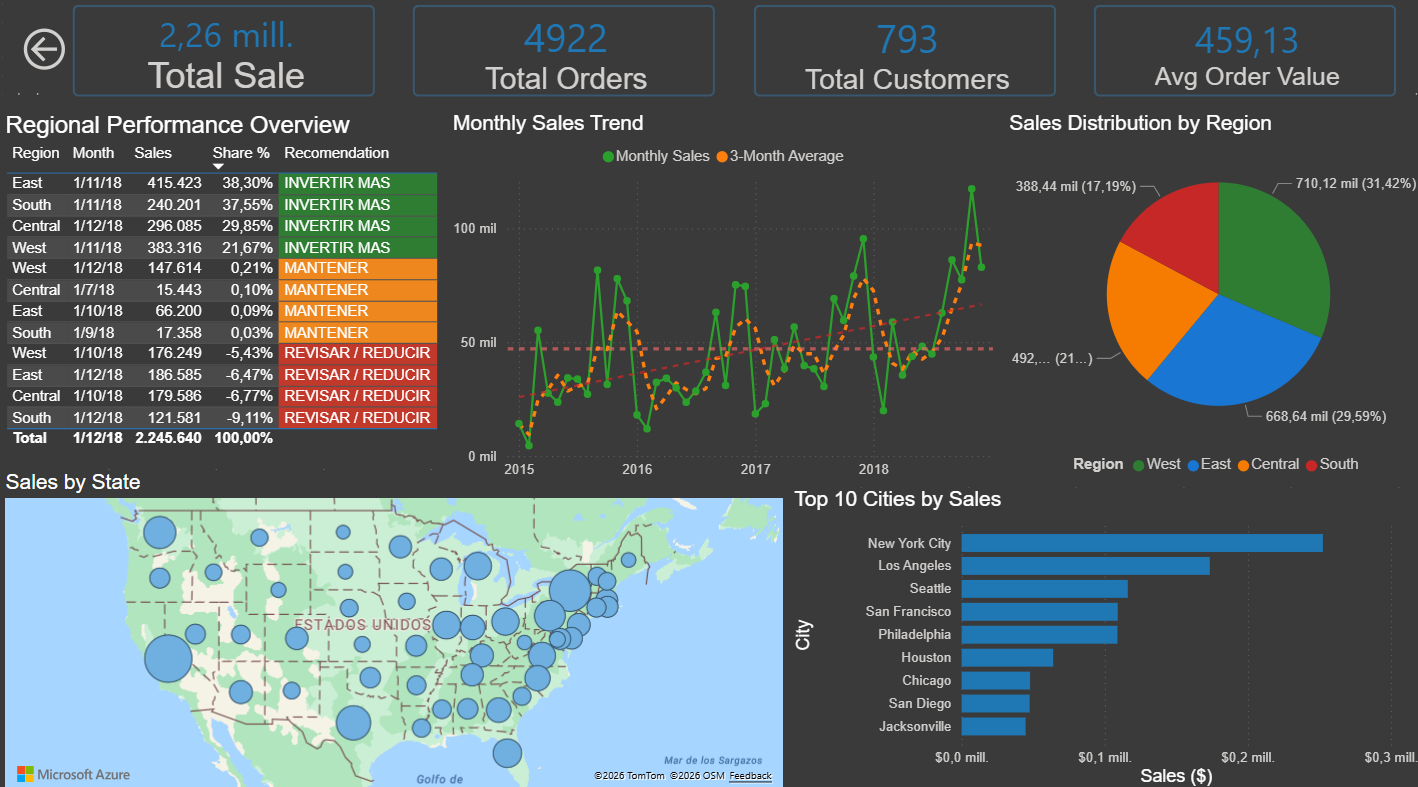

Layout of this report page (visuals, bound fields, positions):
{"tool":"powerbi","page":{"name":"Página 1","canvas":[1280,720],"ordinal":0},"visuals":[{"type":"cardVisual","fields":{"Data":["Sum(sales vw_ventas_mensuales.Ventas)"]},"box":[48,0,304,112],"z":0},{"type":"cardVisual","fields":{"Data":["sales ventas_clean.Total Orders"]},"box":[352,0,304,112],"z":1000},{"type":"cardVisual","fields":{"Data":["sales ventas_clean.Total Customers"]},"box":[656,0,304,112],"z":2000},{"type":"cardVisual","fields":{"Data":["sales ventas_clean.Avg Order Value"]},"box":[960,0,304,112],"z":3000},{"type":"azureMap","title":"Sales by State","fields":{"Category":["sales v_sales_by_city_geo.state"],"Size":["Sum(sales v_sales_by_city_geo.total_sales)"]},"box":[0,432,704,288],"z":4000},{"type":"lineChart","title":"Monthly Sales Trend","fields":{"Y":["Sum(sales vw_promedio_movil_ventas_3m.total_sales)","Sum(sales vw_promedio_movil_ventas_3m.moving_avg_3m)"],"Category":["sales vw_promedio_movil_ventas_3m.month"]},"box":[400,112,496,336],"z":5000},{"type":"clusteredBarChart","title":"Top 10 Cities by Sales","fields":{"Category":["sales v_kpi_sales_by_city.city"],"Y":["Sum(sales v_kpi_sales_by_city.total_sales)"]},"box":[704,448,576,272],"z":6000},{"type":"actionButton","box":[16,32,96,48],"z":7000},{"type":"pieChart","title":"Sales Distribution by Region","fields":{"Category":["sales v_kpi_sales_by_region.region"],"Y":["Sum(sales v_kpi_sales_by_region.total_sales)"]},"box":[896,112,384,336],"z":8000},{"type":"tableEx","title":"Regional Performance Overview","fields":{"Values":["sales vw_regional_performance.region","sales vw_regional_performance.month","sales vw_regional_performance.total_sales","Sum(sales vw_regional_performance.growth_pct)","sales vw_regional_performance.decision"]},"box":[0,112,400,320],"z":10001}]}

Visuals, with their boxes in screenshot pixels (x1, y1, x2, y2), scaled from the page's 1280x720 canvas onto the 1418x787 screenshot:
cardVisual - Sum(sales vw_ventas_mensuales.Ventas): rect(53, 0, 390, 122)
cardVisual - sales ventas_clean.Total Orders: rect(390, 0, 727, 122)
cardVisual - sales ventas_clean.Total Customers: rect(727, 0, 1064, 122)
cardVisual - sales ventas_clean.Avg Order Value: rect(1064, 0, 1400, 122)
"Sales by State" azureMap: rect(0, 472, 780, 786)
"Monthly Sales Trend" lineChart: rect(443, 122, 993, 490)
"Top 10 Cities by Sales" clusteredBarChart: rect(780, 490, 1417, 786)
actionButton: rect(18, 35, 124, 87)
"Sales Distribution by Region" pieChart: rect(993, 122, 1417, 490)
"Regional Performance Overview" tableEx: rect(0, 122, 443, 472)
